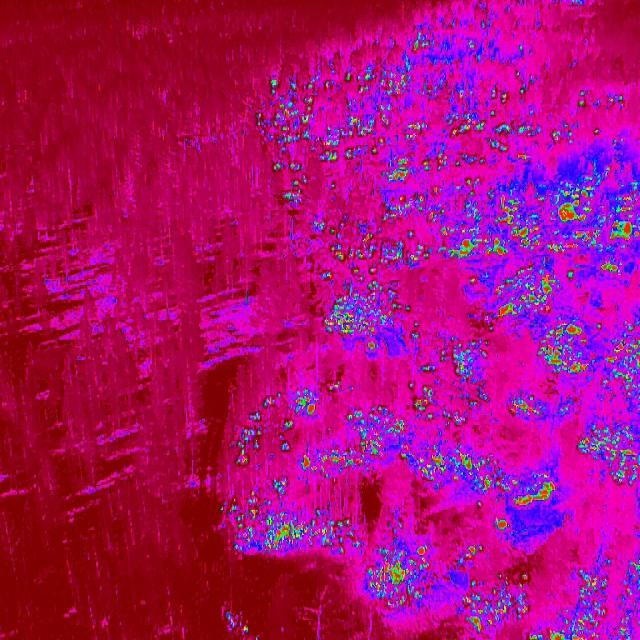fire: (254, 33, 536, 213), (433, 173, 640, 275), (228, 378, 407, 482), (312, 212, 432, 360), (215, 478, 364, 561), (406, 442, 510, 506), (468, 263, 564, 322), (364, 537, 430, 615), (570, 419, 638, 492), (458, 574, 534, 636), (548, 90, 624, 148), (537, 317, 605, 381), (574, 565, 610, 637), (443, 335, 496, 383), (601, 329, 640, 392), (508, 471, 560, 512), (617, 550, 640, 638), (503, 389, 548, 425), (221, 609, 257, 639), (528, 625, 594, 640), (410, 386, 437, 416), (454, 542, 484, 568), (490, 513, 512, 536), (420, 359, 442, 381)
